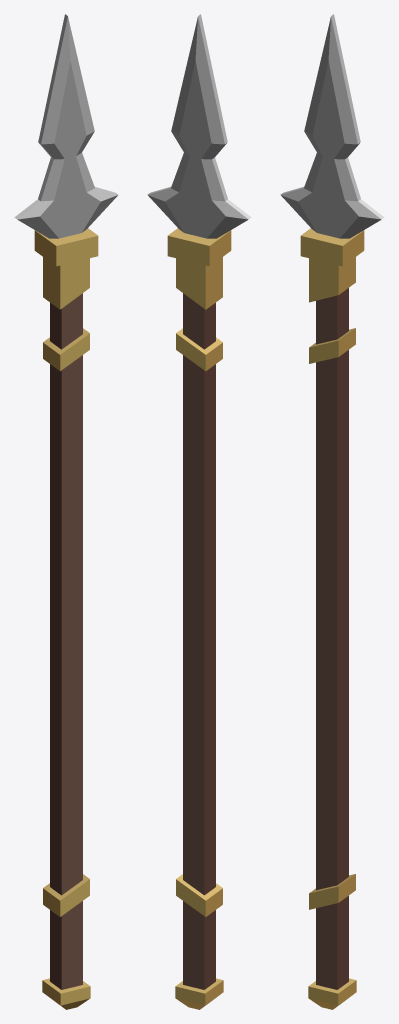
Rendered from SF_Wep_Elven_Spear_01.fbx.
3 views of the same model, side by side, from view 1: azimuth 30°, elevation 25°; view 2: azimuth 150°, elevation 25°; view 3: azimuth 330°, elevation 25° (orthographic).
Visible parts, largest first — view 1: SF_Wep_Elven_Spear_01; view 2: SF_Wep_Elven_Spear_01; view 3: SF_Wep_Elven_Spear_01.
Part boxes in pixels (x1,y1,x2,y2): SF_Wep_Elven_Spear_01: [14, 14, 118, 1009]; SF_Wep_Elven_Spear_01: [147, 14, 251, 1009]; SF_Wep_Elven_Spear_01: [280, 14, 384, 1009].
Size of the model in its own units: 0.5107 by 4.76 by 0.1891.
